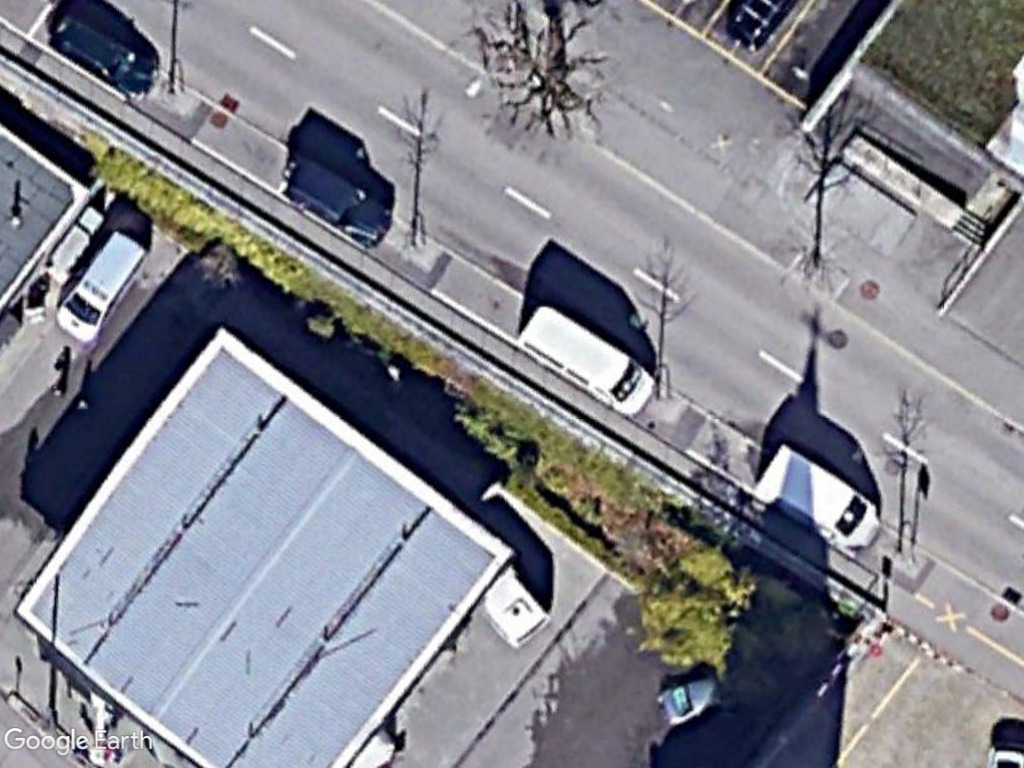car: (279, 157, 396, 250), (45, 10, 164, 97)
van: (515, 303, 662, 420), (749, 440, 885, 558), (55, 222, 151, 346)
